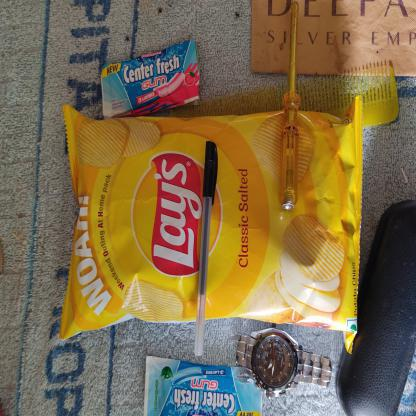classicsalted: (59, 94, 363, 354)
